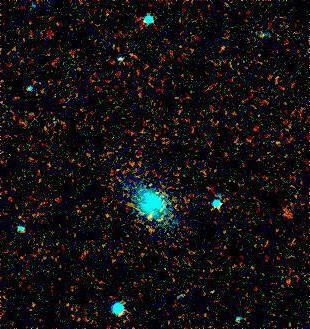star: (137, 199, 167, 229)
